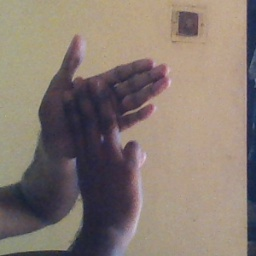M: (27, 33, 173, 210)
